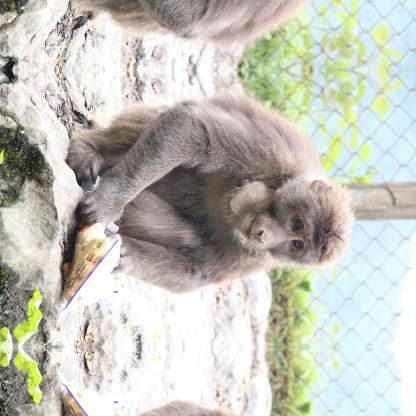Monkey: (74, 77, 344, 311), (74, 0, 344, 62)
